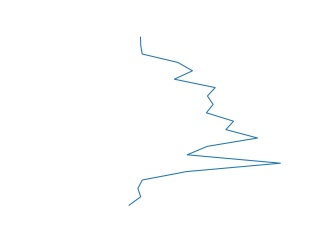floodSwamp: (126, 34, 283, 207)
